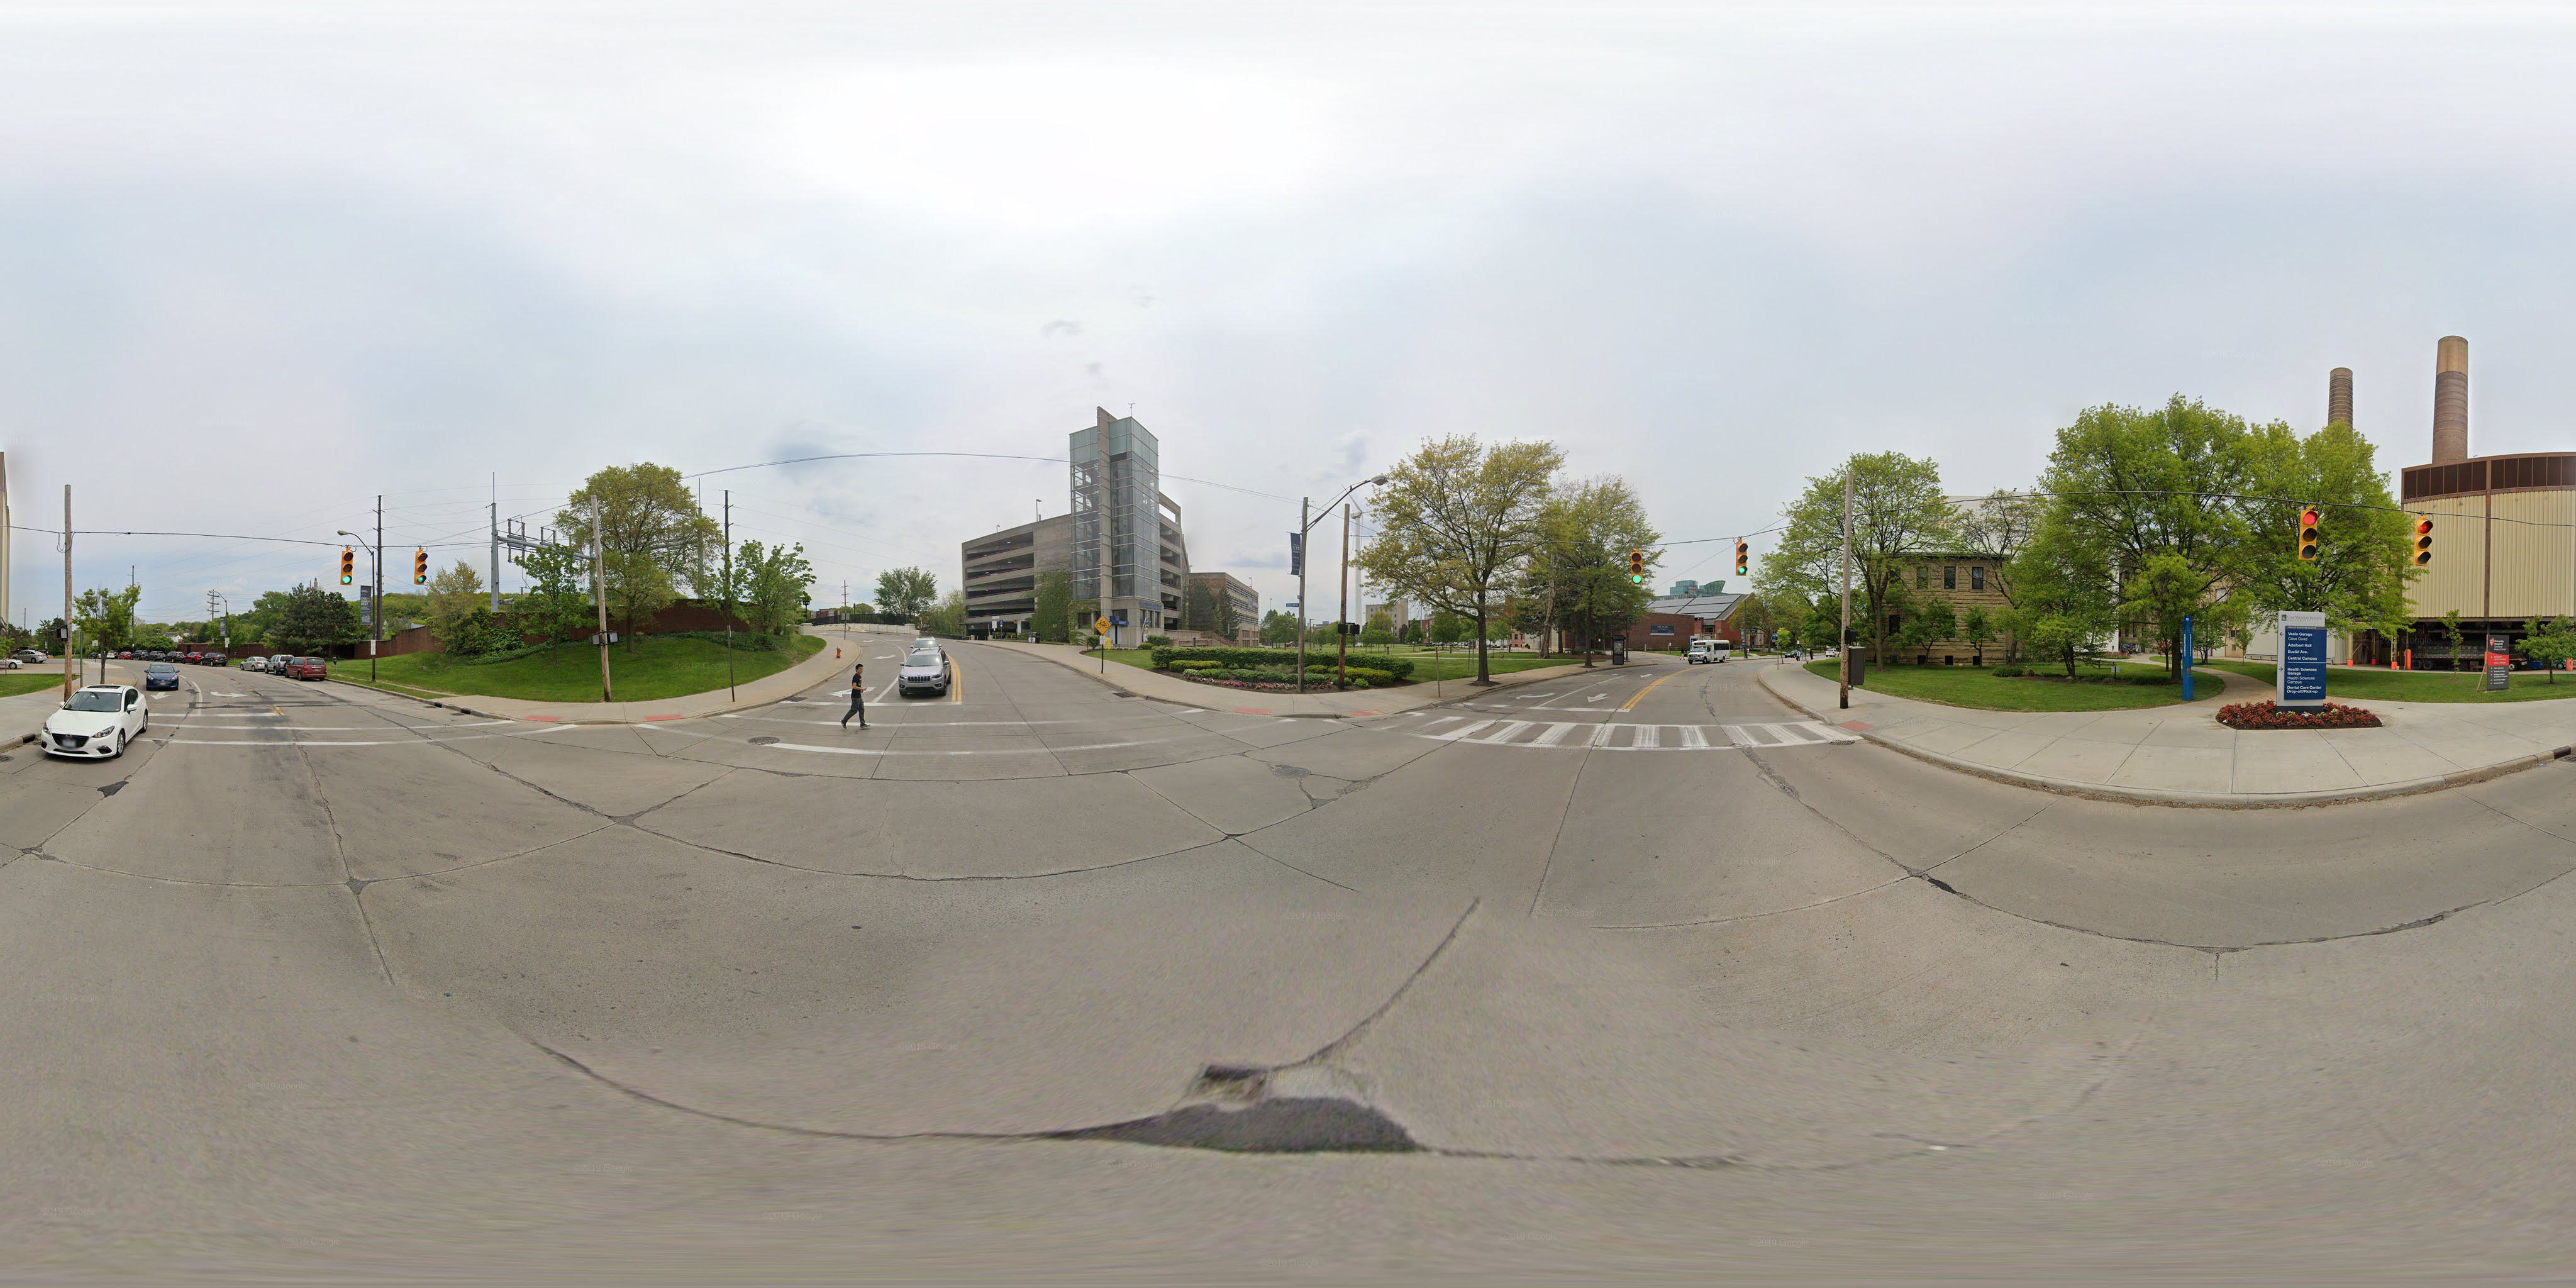Curb Ramp: (1822, 705, 1878, 744), (1226, 698, 1278, 723), (521, 706, 565, 729), (634, 708, 695, 724)
Irregular Ramp: (1342, 700, 1393, 723)
